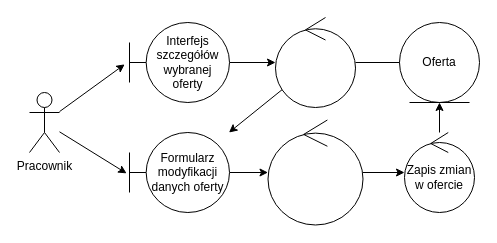
This 497x243 diagram has some shape labels left out. The centre of each missing label's shape, as x and y in pixels:
"Weryfikacja możliwości edycji" goes at pixel 315 62.
"Weryfikacja poprawności nowych danych" goes at pixel 315 172.
